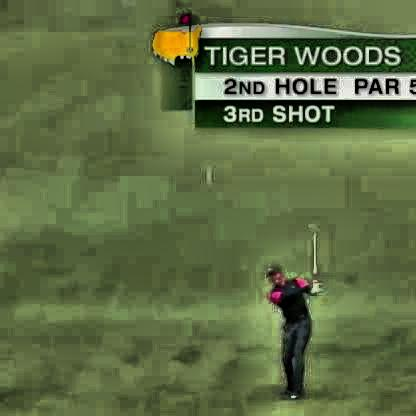golfball: (201, 164, 212, 177)
